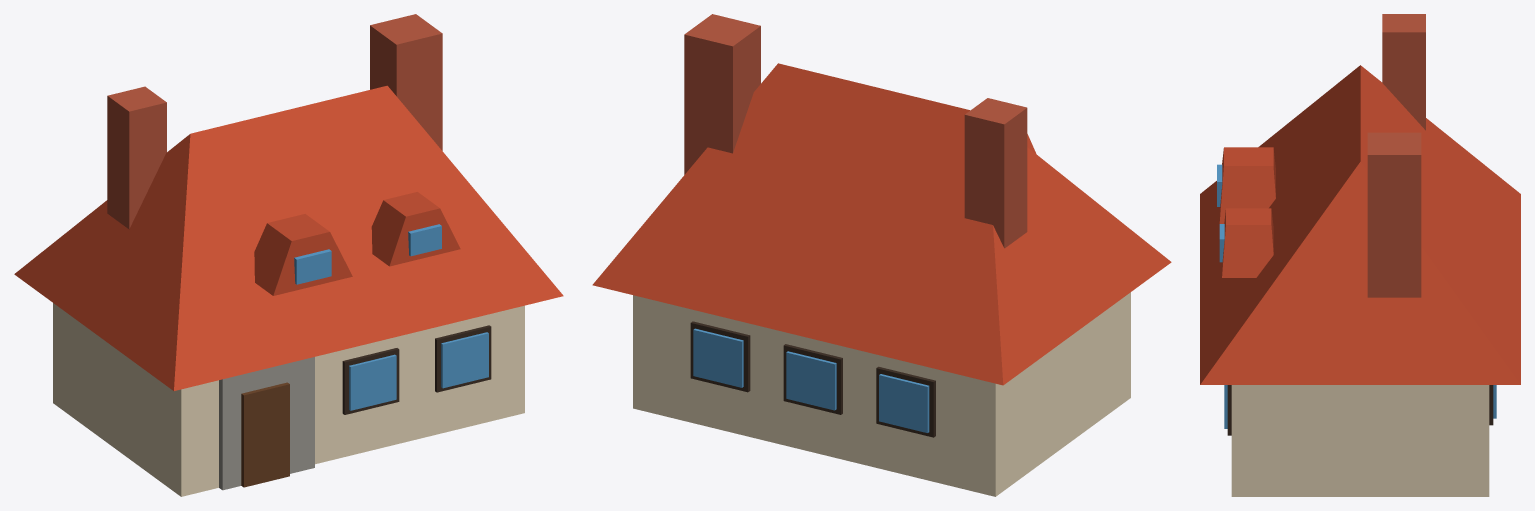
File: 54_polish_karczma_2.obj
The picture shows the model from 3 angles, left to right: view 1: azimuth 30°, elevation 25°; view 2: azimuth 150°, elevation 25°; view 3: azimuth 270°, elevation 25°; orthographic projection. The views are drawn at different scales.
Parts seen in each view (by area): view 1: 54_polish_karczma_2; view 2: 54_polish_karczma_2; view 3: 54_polish_karczma_2.
Part boxes in pixels (left/top/right/bottom): 54_polish_karczma_2: left=14, top=14, right=563, bottom=496; 54_polish_karczma_2: left=592, top=14, right=1171, bottom=496; 54_polish_karczma_2: left=1200, top=14, right=1520, bottom=496.
Size of the model in its own units: 1.86 by 1.52 by 1.32.
